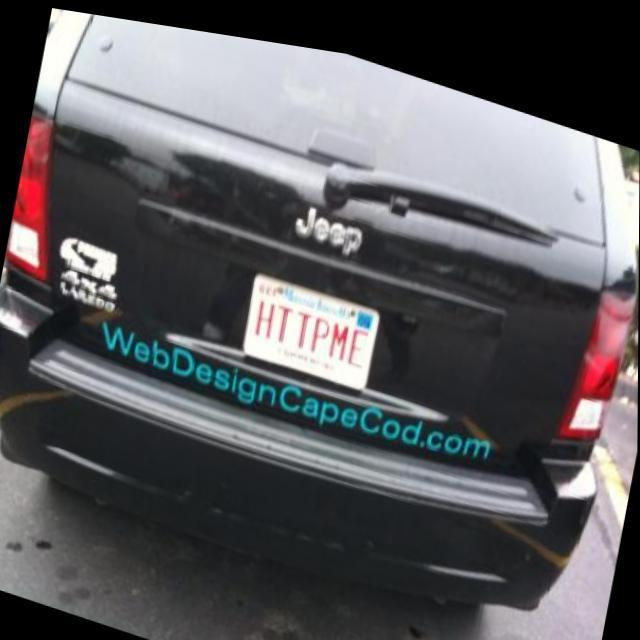license_plate: (240, 260, 383, 386)
